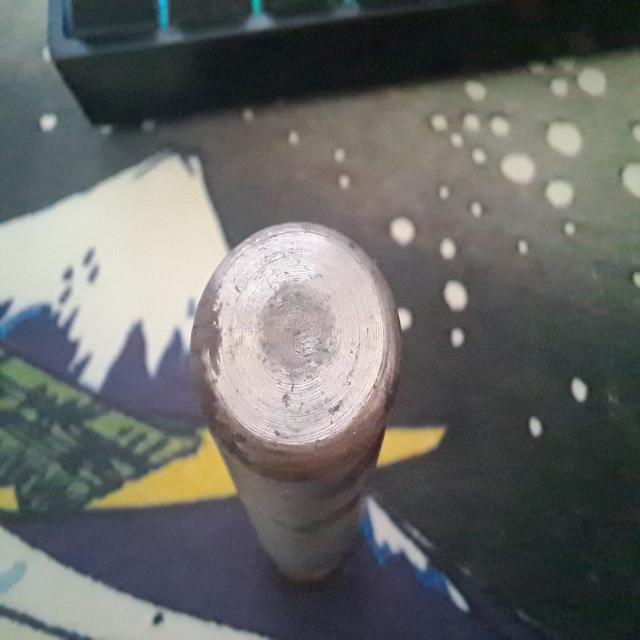defect: (279, 395, 316, 438)
planson: (191, 224, 403, 583)
